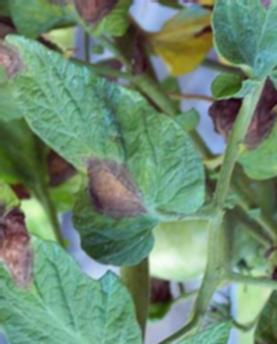Tomato leaf late blight: (0, 27, 219, 269), (0, 155, 144, 344), (199, 0, 277, 105)
